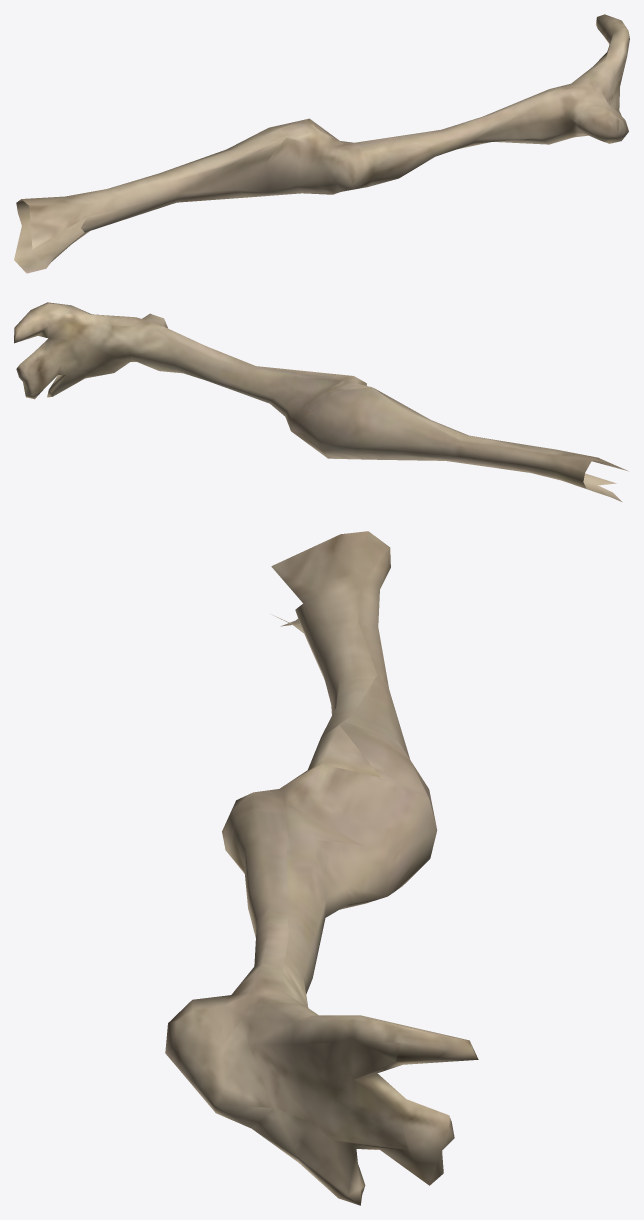
File: mammoth_leg_a.glb
3 renders of one model, top to bottom at view 1: azimuth 30°, elevation 25°; view 2: azimuth 150°, elevation 25°; view 3: azimuth 270°, elevation 25°, orthographic. The views are drawn at different scales.
Parts seen in each view (by area): view 1: SM_animal_skeleton_01.002_part2; view 2: SM_animal_skeleton_01.002_part2; view 3: SM_animal_skeleton_01.002_part2.
Boxes of the visible parts, x1=… form: SM_animal_skeleton_01.002_part2: x1=14, y1=14, x2=629, y2=273; SM_animal_skeleton_01.002_part2: x1=14, y1=302, x2=628, y2=502; SM_animal_skeleton_01.002_part2: x1=165, y1=531, x2=478, y2=1205.
Bounding box in the file's own units: 2.18 × 0.3404 × 0.5146.
1 material, 1 textured.
